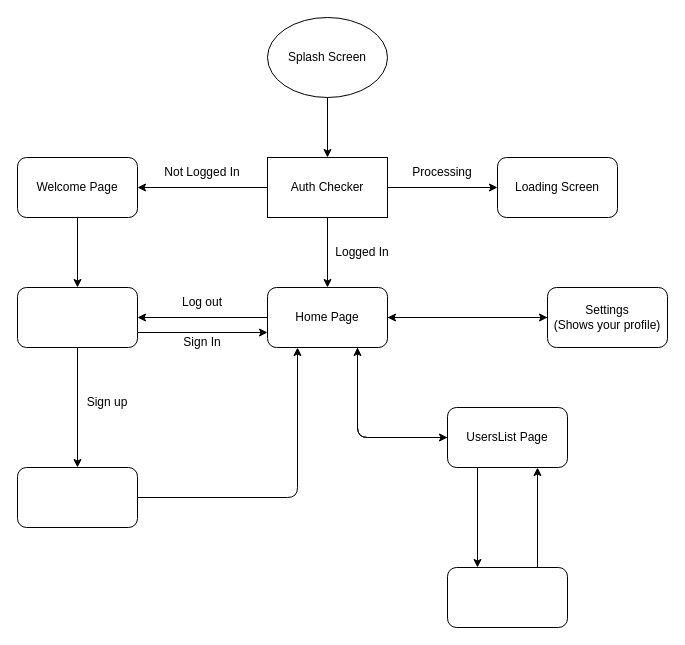
Some shapes in this 685 by 645 pixel diagram are drawn without their labels. Each missing label, with the centre of its shape:
"Chatting Page" goes at pixel 507 597.
"Create Profile Page" goes at pixel 77 497.
"SignIn/Signup Page" goes at pixel 77 317.
